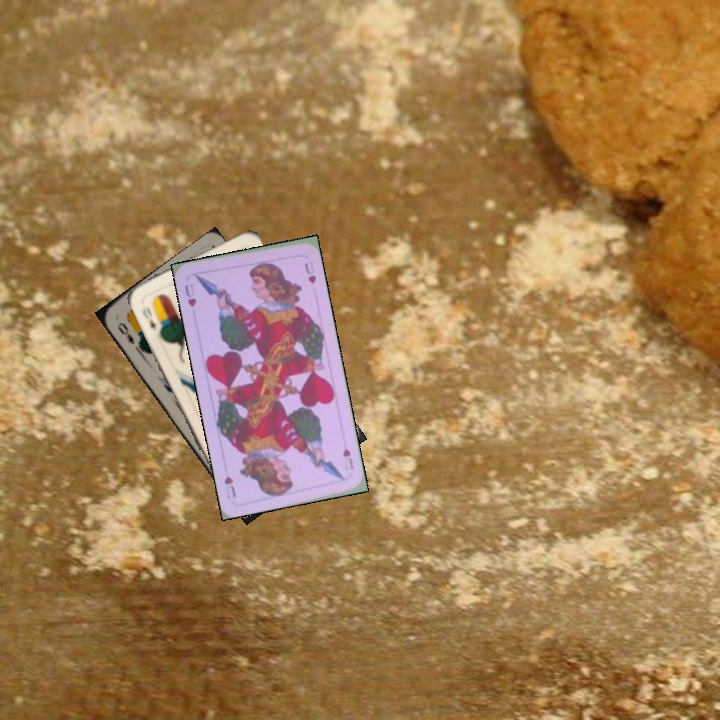EO: (113, 318, 137, 347), (139, 302, 159, 333)
HU: (180, 280, 199, 309), (339, 444, 356, 472)
